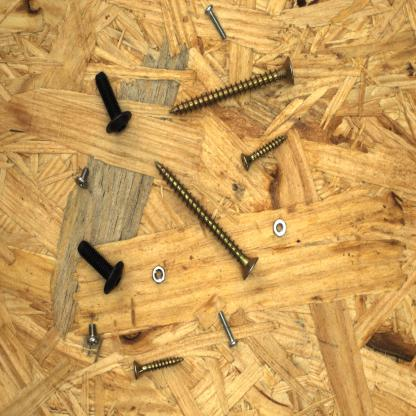screw: (153, 158, 262, 282), (167, 54, 298, 116), (75, 236, 126, 298), (93, 66, 133, 136), (240, 132, 288, 170), (132, 355, 186, 382), (215, 308, 240, 350), (204, 2, 228, 42), (74, 164, 92, 192), (86, 321, 100, 346)
